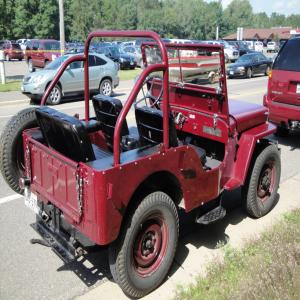Vehicle-registration-plate: (25, 191, 39, 214)
